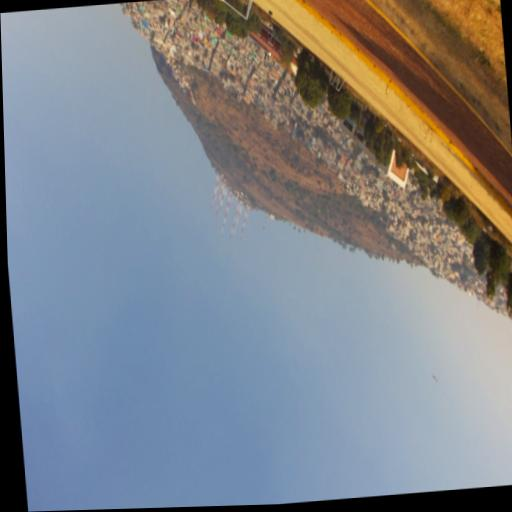drones: (431, 374, 439, 383)
